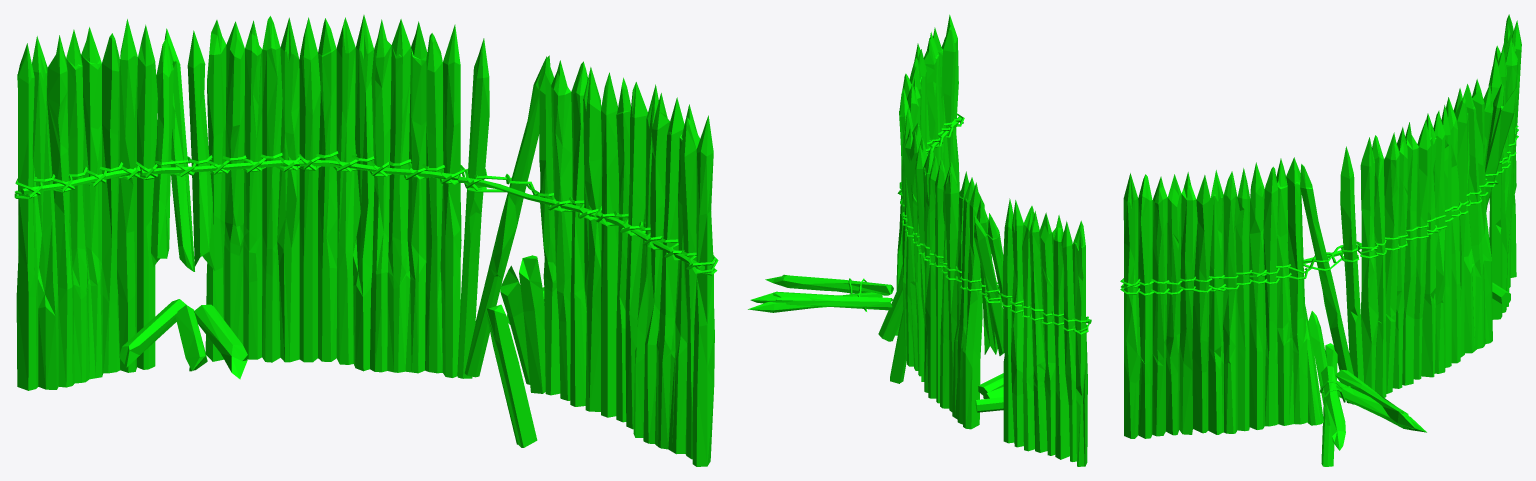
File: SM_Palisade_Corner_Round_9x9_Convex_A_Broken.fbx
3 views of the same model, side by side, from view 1: azimuth 30°, elevation 25°; view 2: azimuth 150°, elevation 25°; view 3: azimuth 270°, elevation 25° (orthographic). The views are drawn at different scales.
Parts seen in each view (by area): view 1: palisade-corner-round-9x9-convex-a-broken; view 2: palisade-corner-round-9x9-convex-a-broken; view 3: palisade-corner-round-9x9-convex-a-broken.
Part boxes in pixels (x1,y1,x2,y2): palisade-corner-round-9x9-convex-a-broken: (14,15,718,466); palisade-corner-round-9x9-convex-a-broken: (748,14,1091,466); palisade-corner-round-9x9-convex-a-broken: (1120,14,1521,466).
Bounding box in the file's own units: 11.73 × 8.11 × 9.41.
